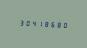eight: (41, 19, 46, 28), (53, 20, 58, 28)
four: (29, 19, 34, 27)
one: (35, 19, 40, 27)
six: (47, 20, 52, 28)
three: (17, 18, 22, 26)
zero: (23, 18, 28, 27), (59, 20, 64, 29)
